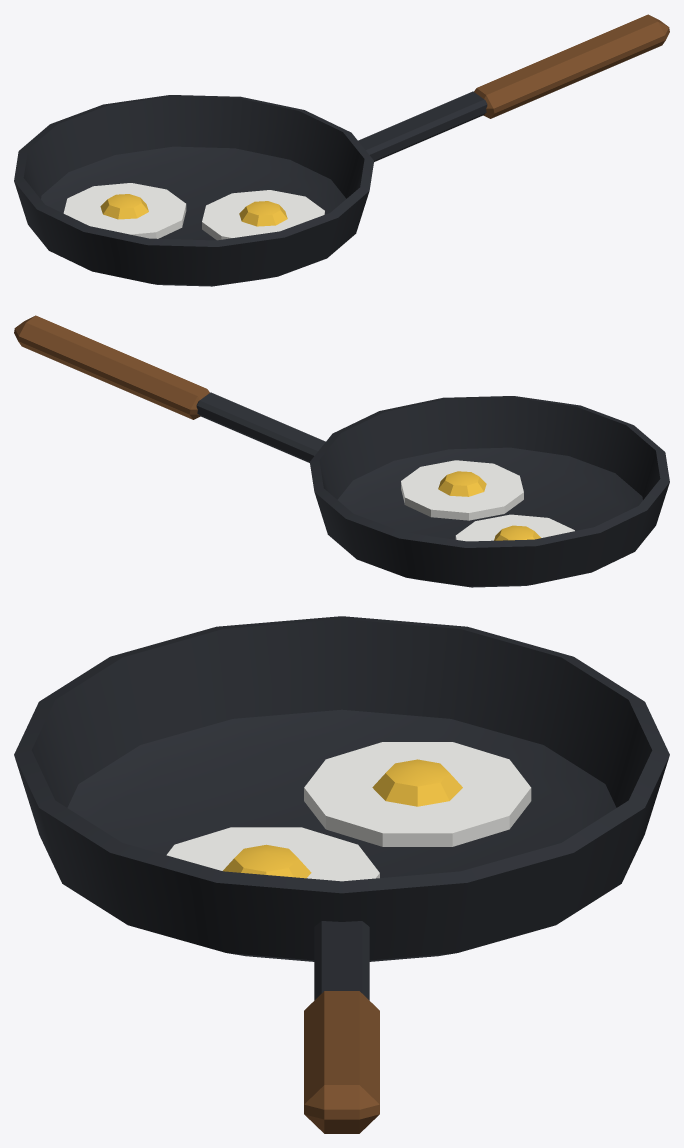
Rendered from SM_Frying_Pan.glb.
The picture shows the model from 3 angles, top to bottom: view 1: azimuth 30°, elevation 25°; view 2: azimuth 150°, elevation 25°; view 3: azimuth 270°, elevation 25°; orthographic projection. The views are drawn at different scales.
Visible parts, largest first — view 1: SM_Frying_Pan; view 2: SM_Frying_Pan; view 3: SM_Frying_Pan.
Part boxes in pixels (left/top/right/bottom): SM_Frying_Pan: left=14, top=14, right=669, bottom=286; SM_Frying_Pan: left=14, top=315, right=669, bottom=587; SM_Frying_Pan: left=14, top=616, right=669, bottom=1133.
Size of the model in its own units: 0.5191 by 0.0774 by 0.26.
1 material, 1 textured.
